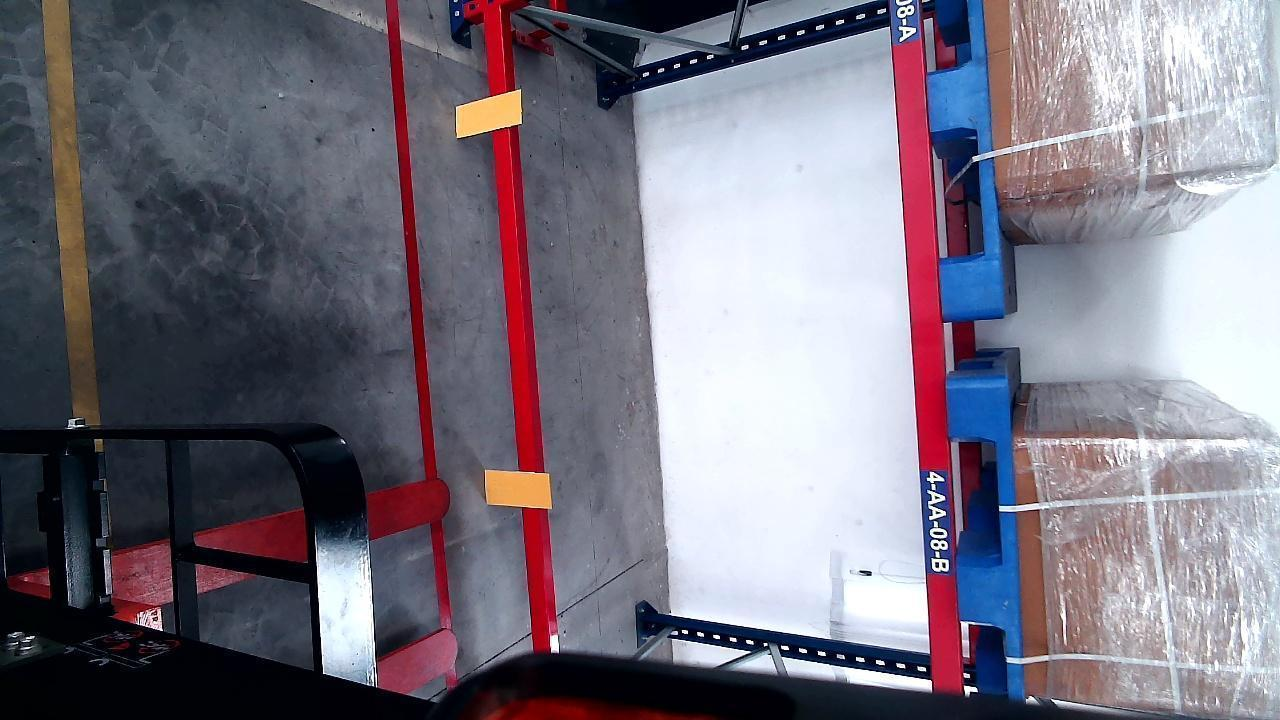red_line: (387, 0, 442, 514)
yellow_line: (42, 0, 101, 439)
